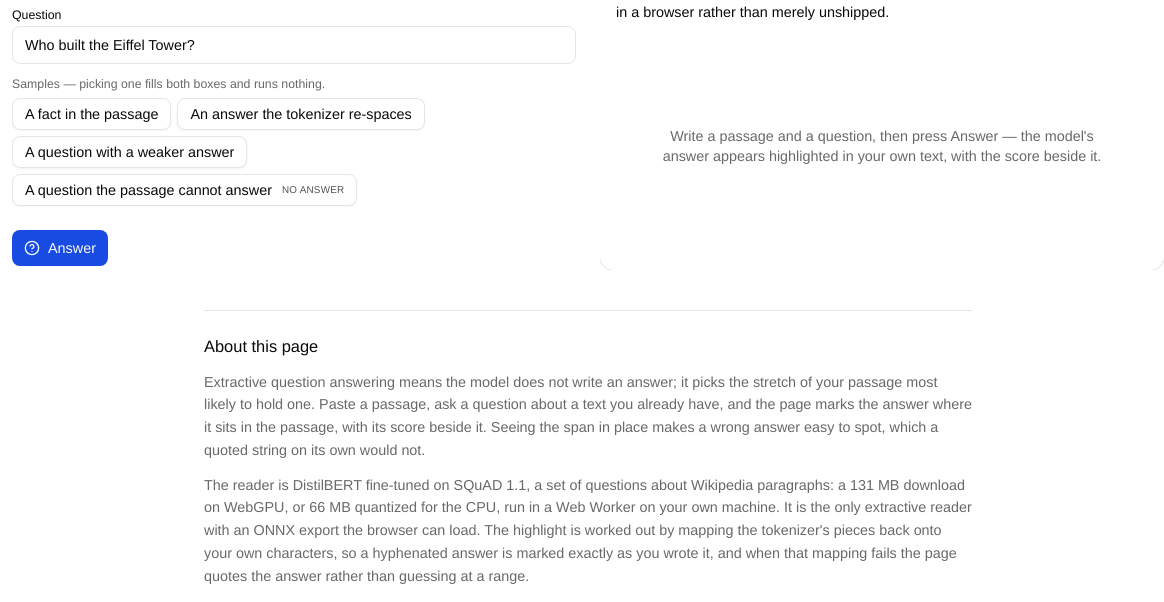
Test case: QuestionAnsweringPage › says when the passage ran past the model's window
(page scrolled)
Click the button "Answer".
click(60, 248)  # box x1=12 y1=230 x2=108 y2=266
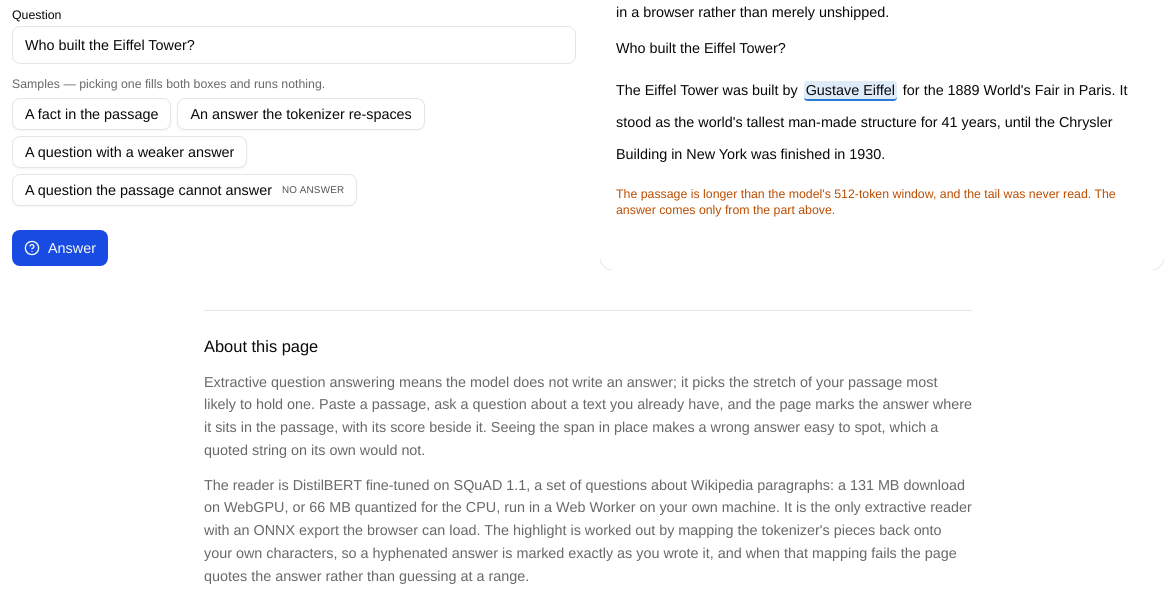
Check: the text with test id "answer-truncated" is shown, box x1=616 y1=186 x2=1148 y2=218
Check: the text with test id "answer-truncated" shows "512", box x1=616 y1=186 x2=1116 y2=218
